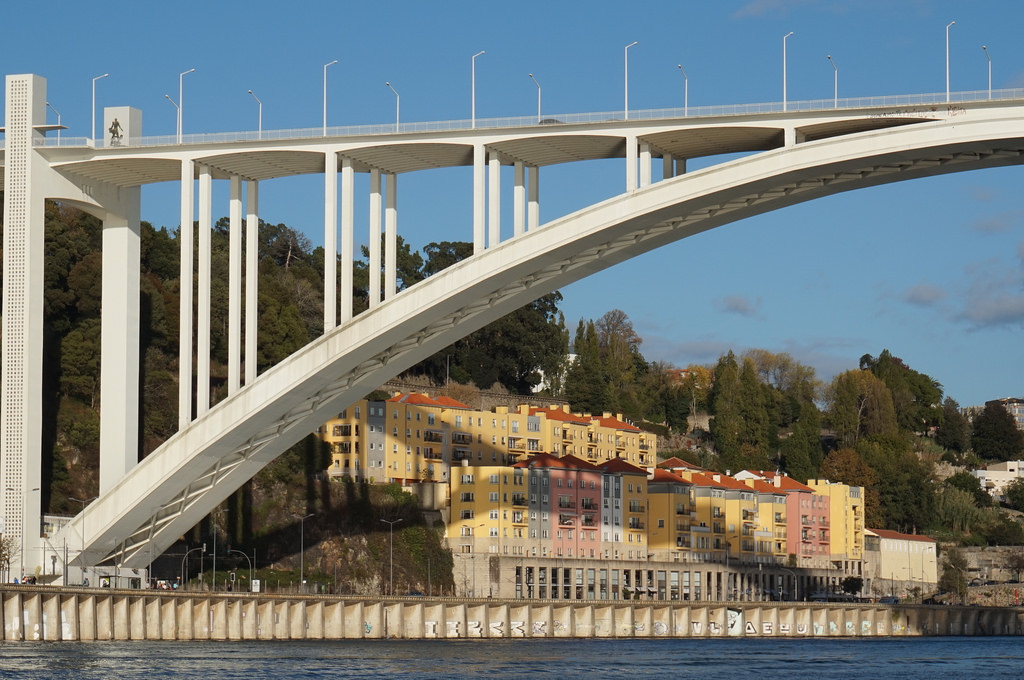arrabida: (0, 71, 1023, 593)
